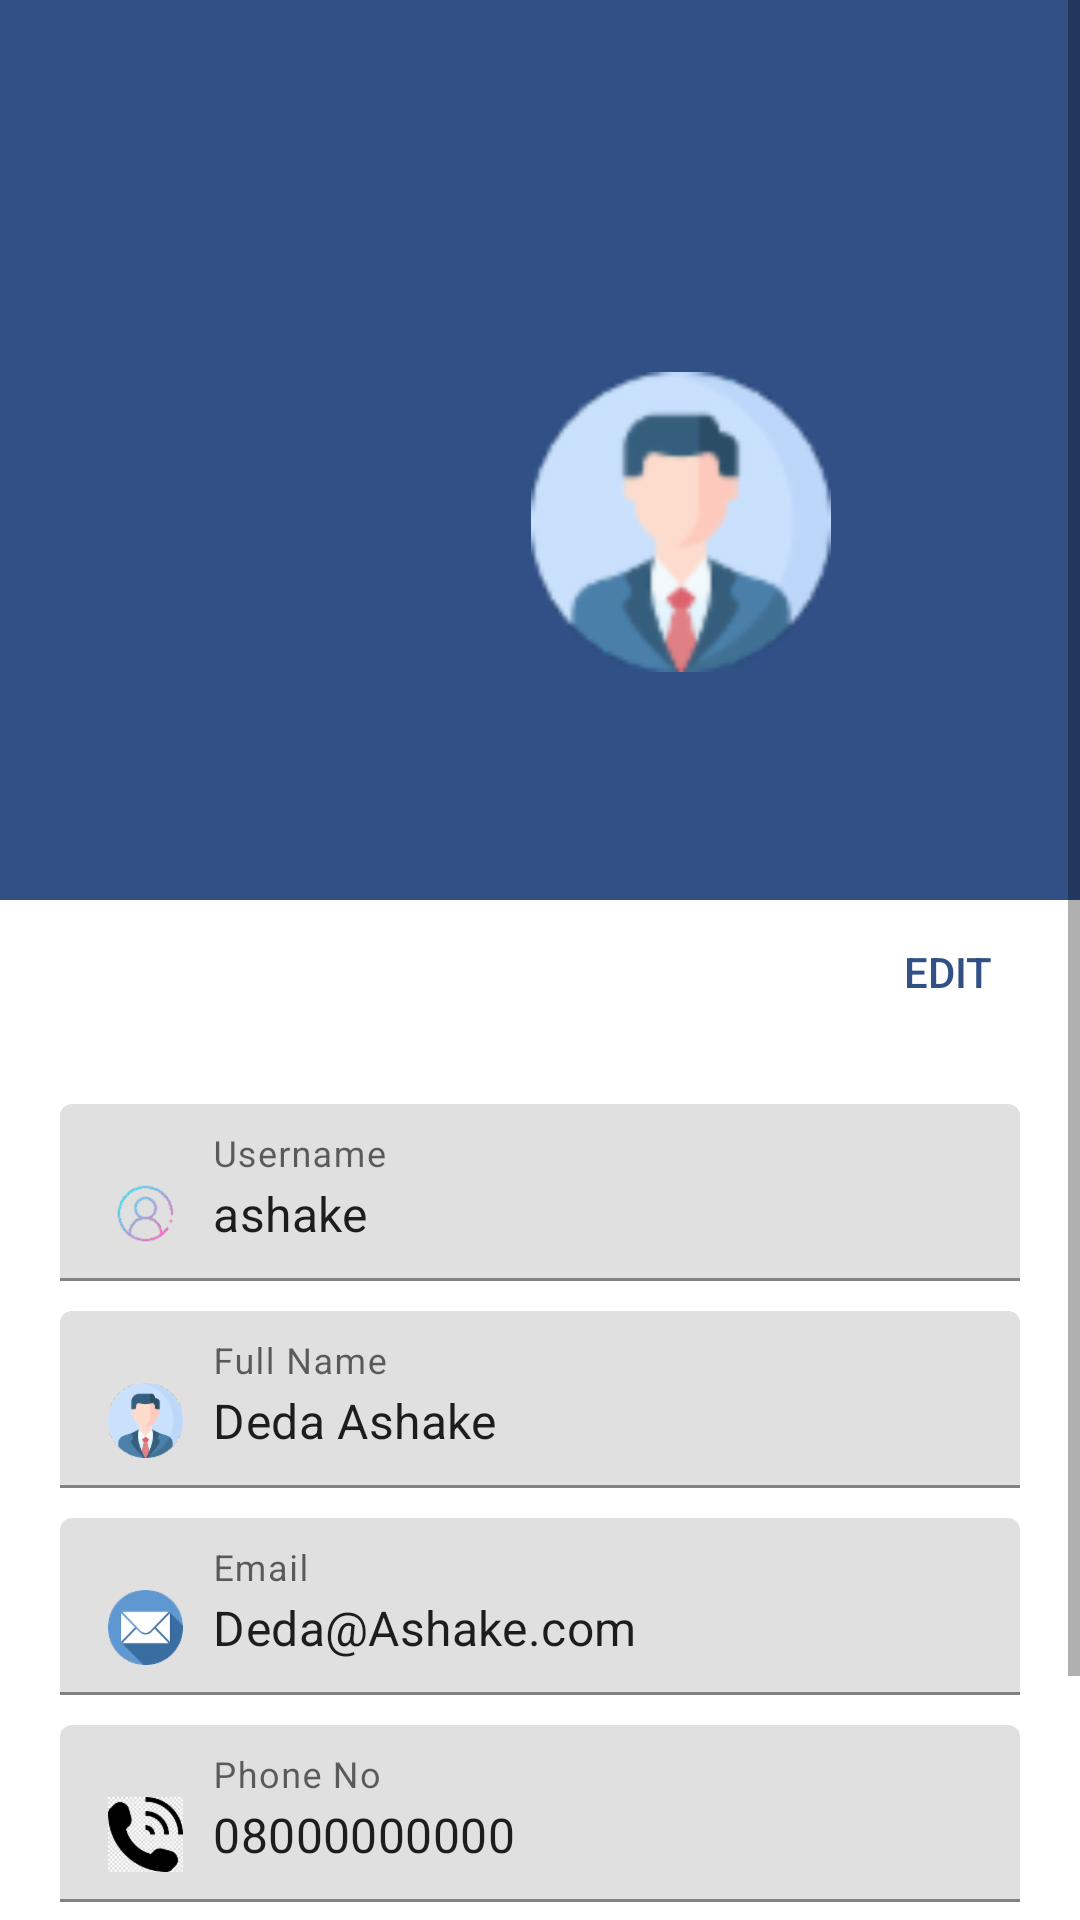

Named icons in this screenshot (1080 x 1920) and their bounding boxes, (x1, y1, x2, y2):
male: (531, 372, 831, 672)
